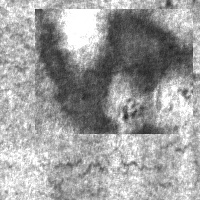crazing: (71, 84, 200, 172), (12, 2, 176, 58), (47, 140, 200, 200)
patches: (35, 9, 193, 134)
